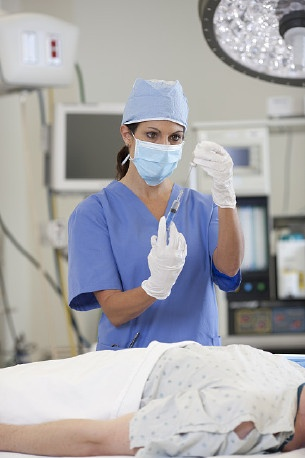Mask: (129, 121, 194, 186)
